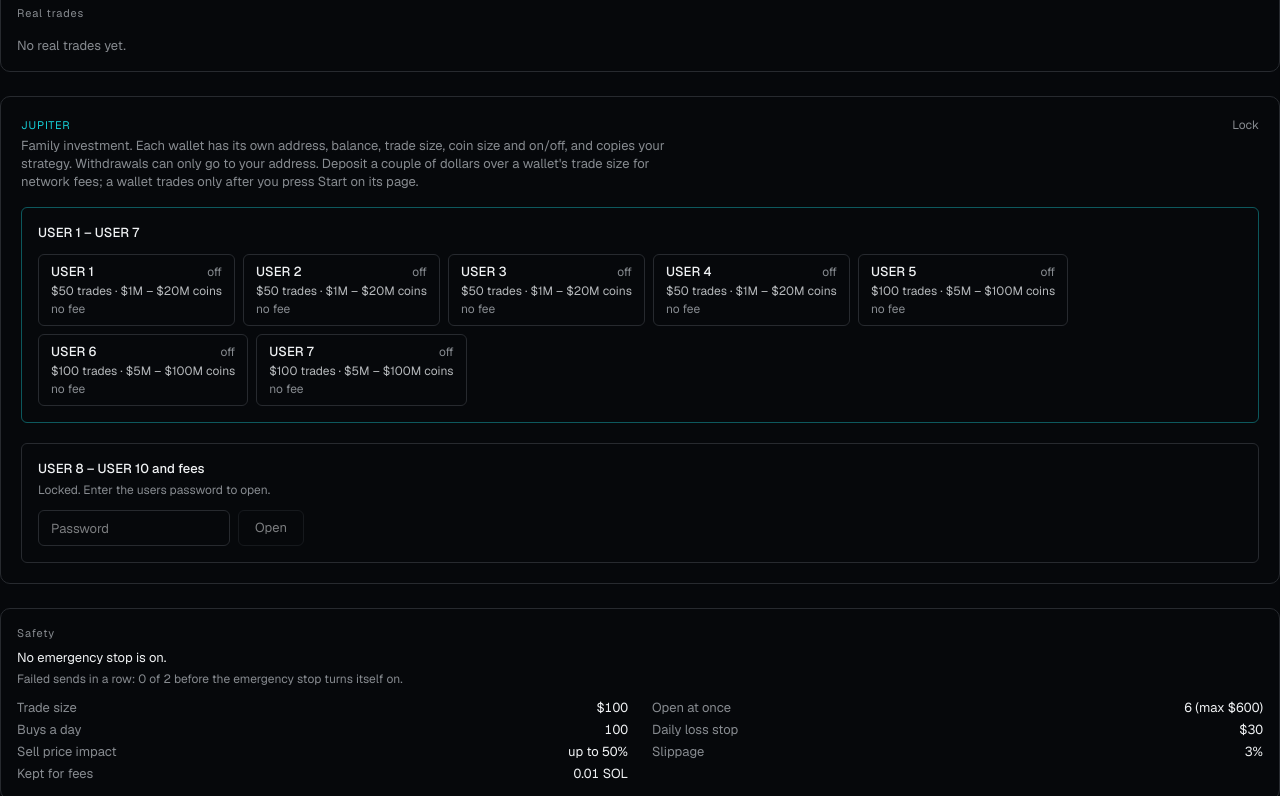
RealWalletPage JUPITER › inside JUPITER, the users password opens USER 8-10 and the fees too
The image size is (1280, 796).
(page scrolled)
Type "pw" into the password field named "Users password".
click(134, 528); type("pw")  # box x1=38 y1=510 x2=230 y2=546
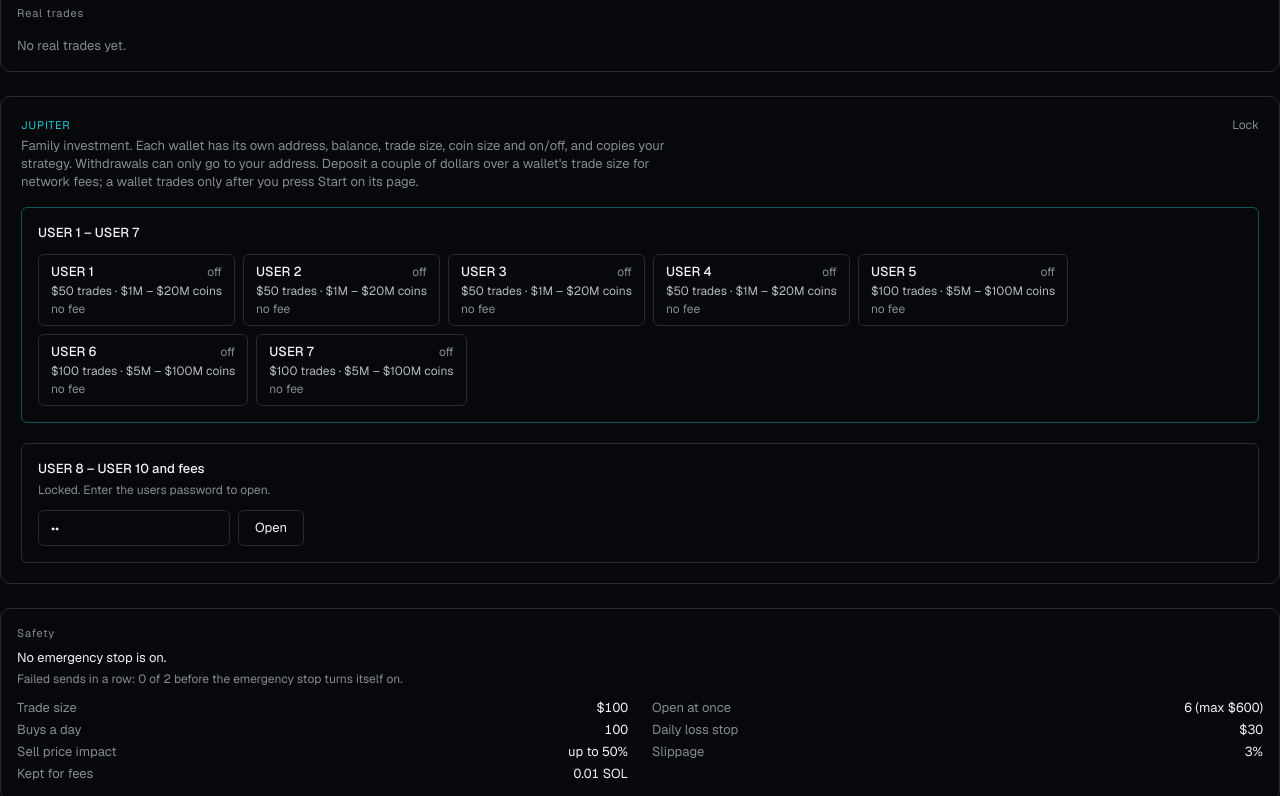
Click the button "Open".
click(271, 528)  # box x1=238 y1=510 x2=304 y2=546
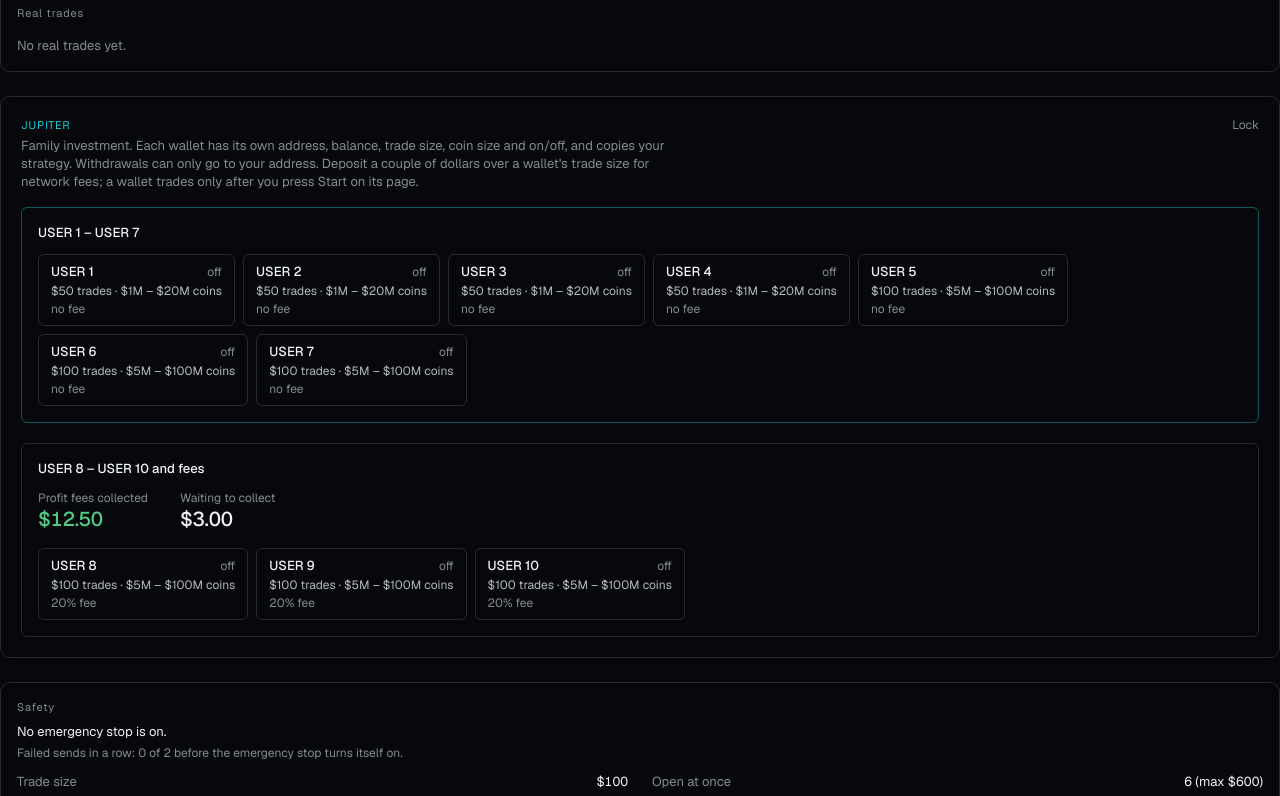
Expected: the text "Profit fees collected" is shown, x1=38 y1=490 x2=148 y2=506
Expected: the text "$12.50" is shown, x1=38 y1=506 x2=103 y2=532
